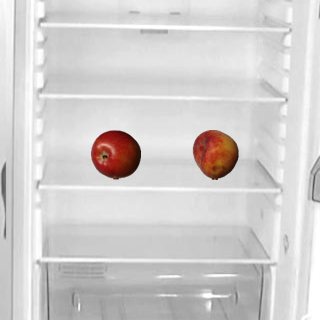Apple Braeburn: (90, 129, 140, 179)
Peach: (190, 129, 240, 179)
